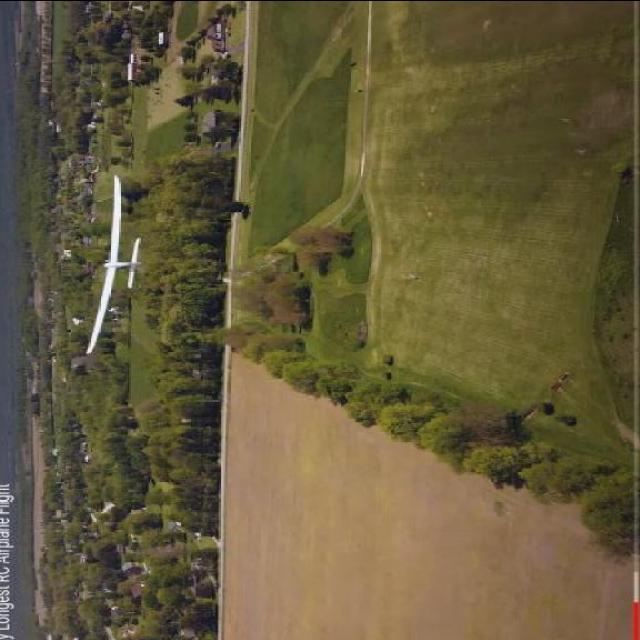plane: (84, 172, 142, 354)
